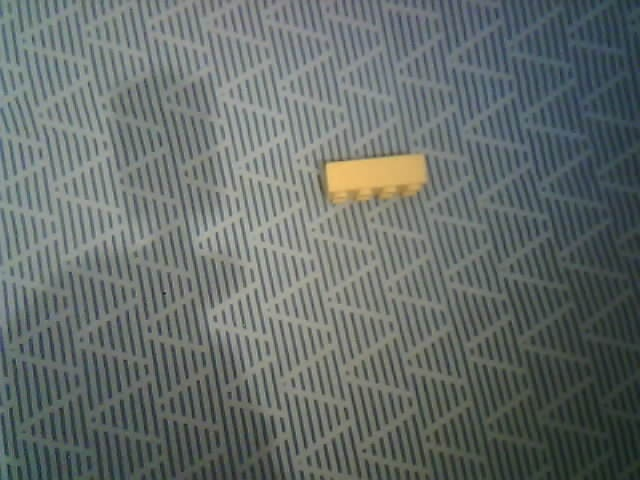lego: (321, 152, 429, 206)
